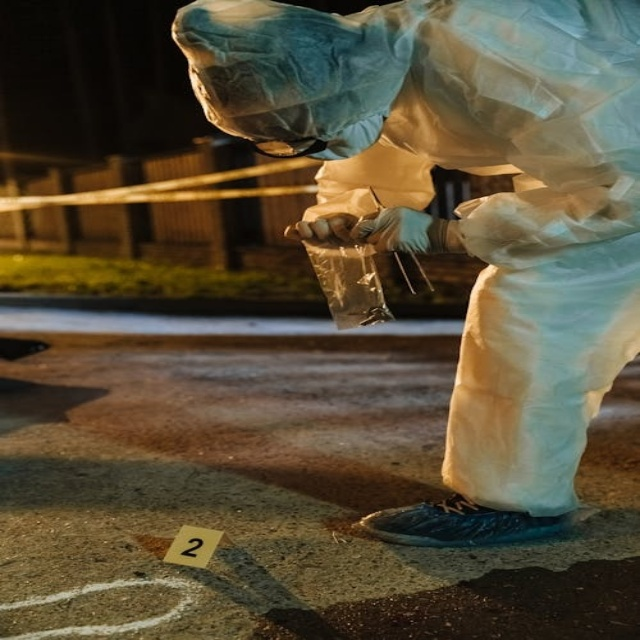Gafas: (244, 128, 327, 159)
Guantes: (355, 206, 453, 256), (286, 213, 370, 248)
Mascara: (288, 108, 396, 167)
